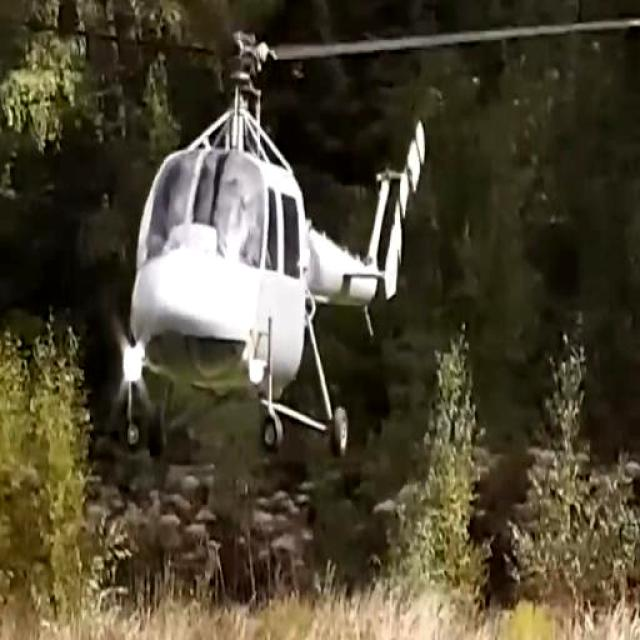drone: (95, 12, 435, 484)
